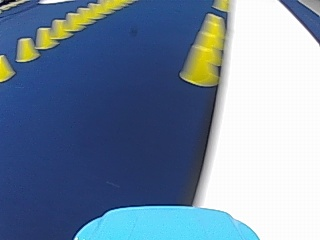cone: (178, 15, 224, 86), (15, 37, 39, 62), (0, 54, 15, 81), (35, 27, 53, 48), (49, 19, 67, 39), (64, 12, 81, 31)
